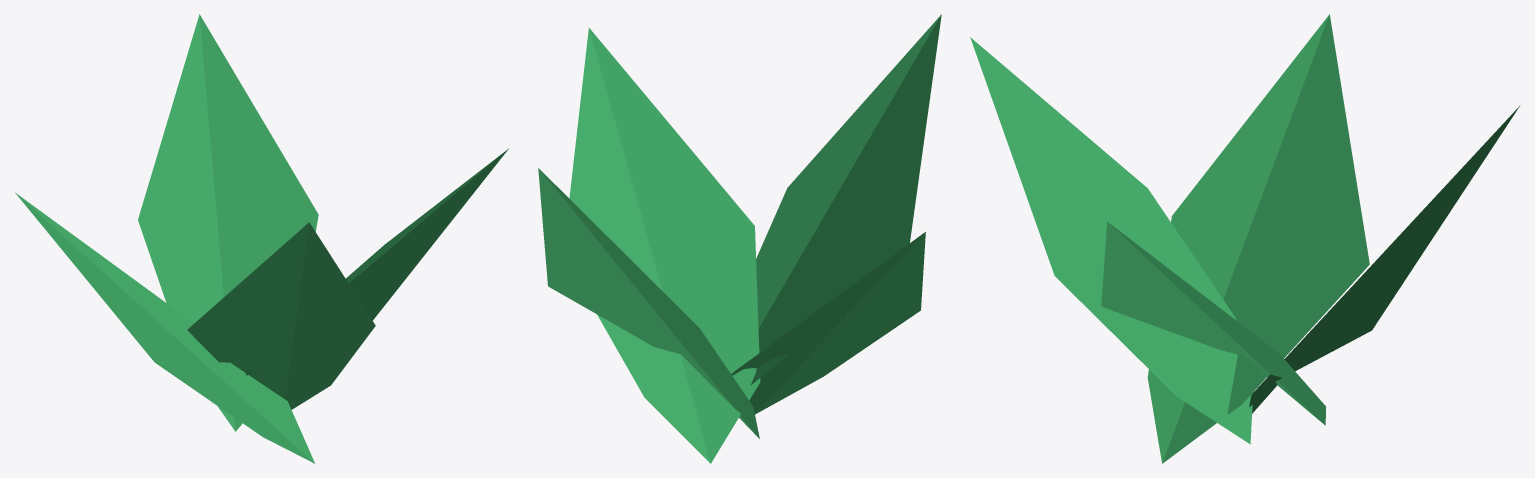
The model's file is plant_1.gltf.
3 views of the same model, side by side, from view 1: azimuth 30°, elevation 25°; view 2: azimuth 150°, elevation 25°; view 3: azimuth 270°, elevation 25° (orthographic). The views are drawn at different scales.
Visible parts, largest first — view 1: sphere (×4); view 2: sphere (×4); view 3: sphere (×4).
Part boxes in pixels (<box>): sphere (×4): <box>15,14,508,463</box>; sphere (×4): <box>538,14,941,463</box>; sphere (×4): <box>970,14,1520,463</box>.
Bounding box in the file's own units: 0.315 × 0.2469 × 0.3234.
1 material, 1 textured.
